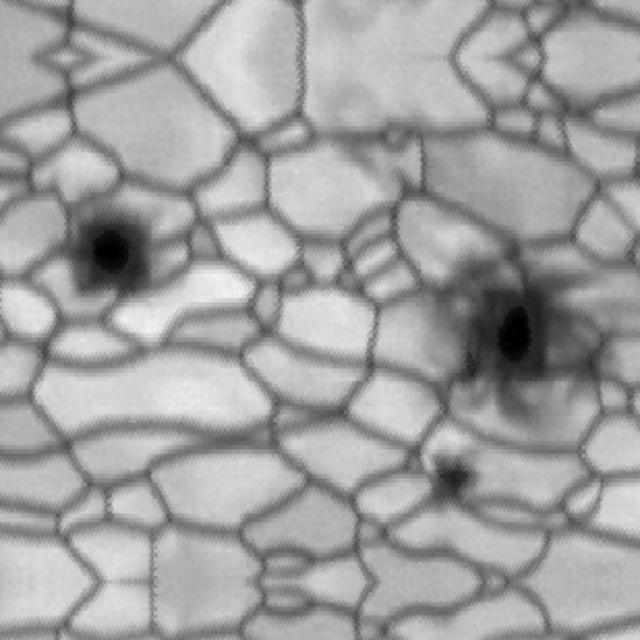good_void: (435, 252, 634, 436), (57, 206, 188, 307), (404, 436, 486, 521)
